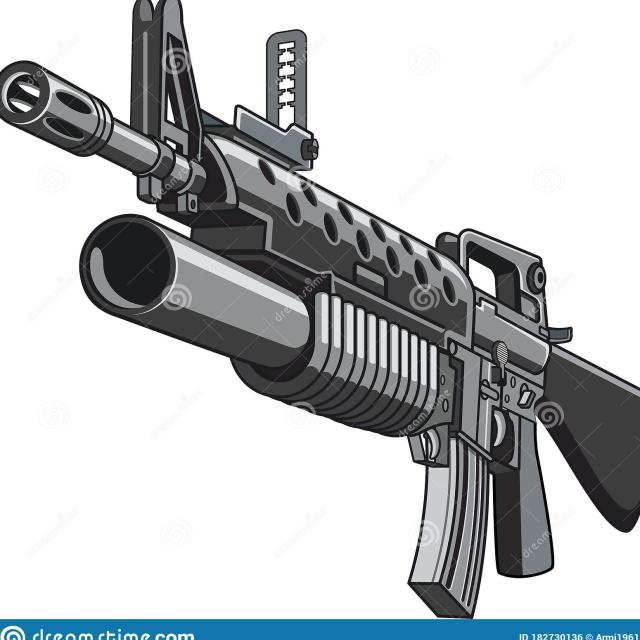Weapon: (0, 0, 640, 617)
